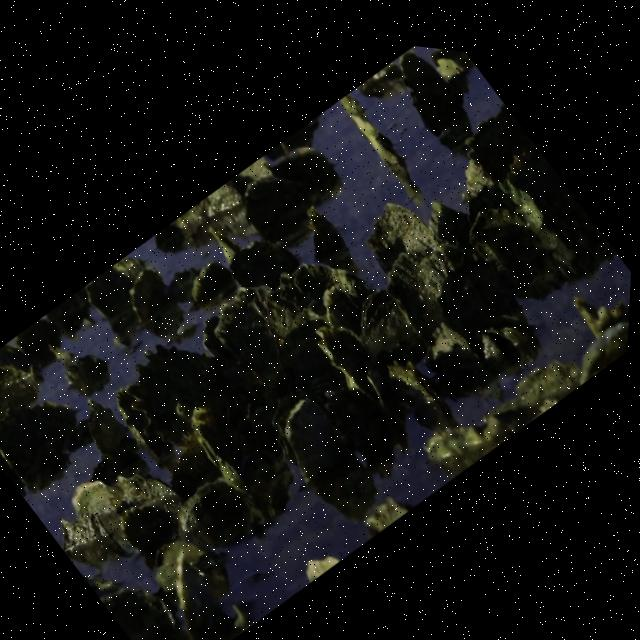Oyster-Closed: (190, 405, 292, 519), (70, 492, 139, 590), (459, 102, 529, 194), (177, 480, 263, 550), (284, 396, 351, 483), (318, 323, 387, 406), (389, 353, 454, 432), (111, 382, 168, 463), (358, 282, 418, 356), (109, 502, 180, 562), (344, 109, 409, 172), (324, 385, 383, 454), (100, 462, 181, 512), (87, 394, 136, 466), (420, 324, 483, 371), (298, 200, 349, 257), (56, 509, 119, 552), (423, 194, 473, 241), (128, 263, 167, 322), (188, 254, 230, 305), (202, 218, 244, 263)
Oyster-Indeterminate: (124, 339, 225, 449), (419, 243, 531, 342), (0, 388, 82, 496), (266, 257, 372, 336), (214, 285, 288, 389), (362, 187, 452, 271), (395, 50, 473, 141), (383, 240, 443, 342), (465, 205, 536, 278), (502, 143, 564, 221), (280, 312, 330, 386), (229, 237, 300, 288), (64, 476, 123, 529), (466, 183, 518, 229)
